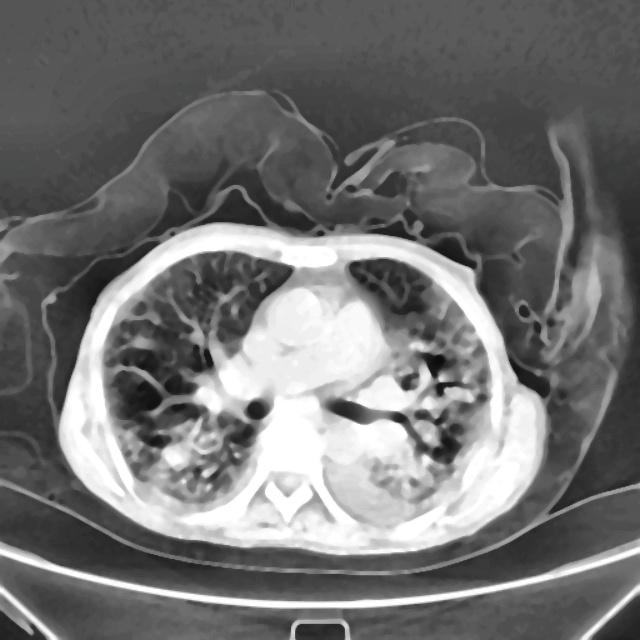covid: (57, 220, 550, 556)
